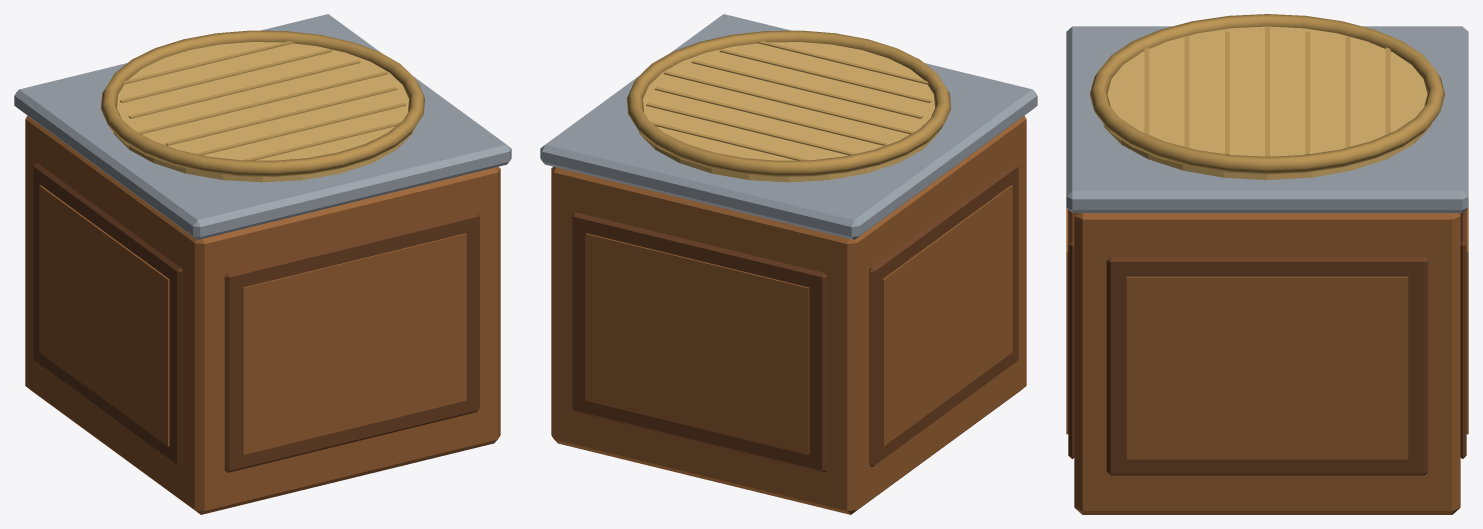
Rendered from counter_tray.glb.
3 renders of one model, left to right at view 1: azimuth 30°, elevation 25°; view 2: azimuth 150°, elevation 25°; view 3: azimuth 270°, elevation 25°, orthographic. The views are drawn at different scales.
Parts seen in each view (by area): view 1: counter_tray; view 2: counter_tray; view 3: counter_tray.
Boxes of the visible parts, <box> form: counter_tray: <box>14,14,511,514</box>; counter_tray: <box>540,14,1037,514</box>; counter_tray: <box>1066,14,1468,514</box>.
Size of the model in its own units: 1 by 0.9591 by 1.
